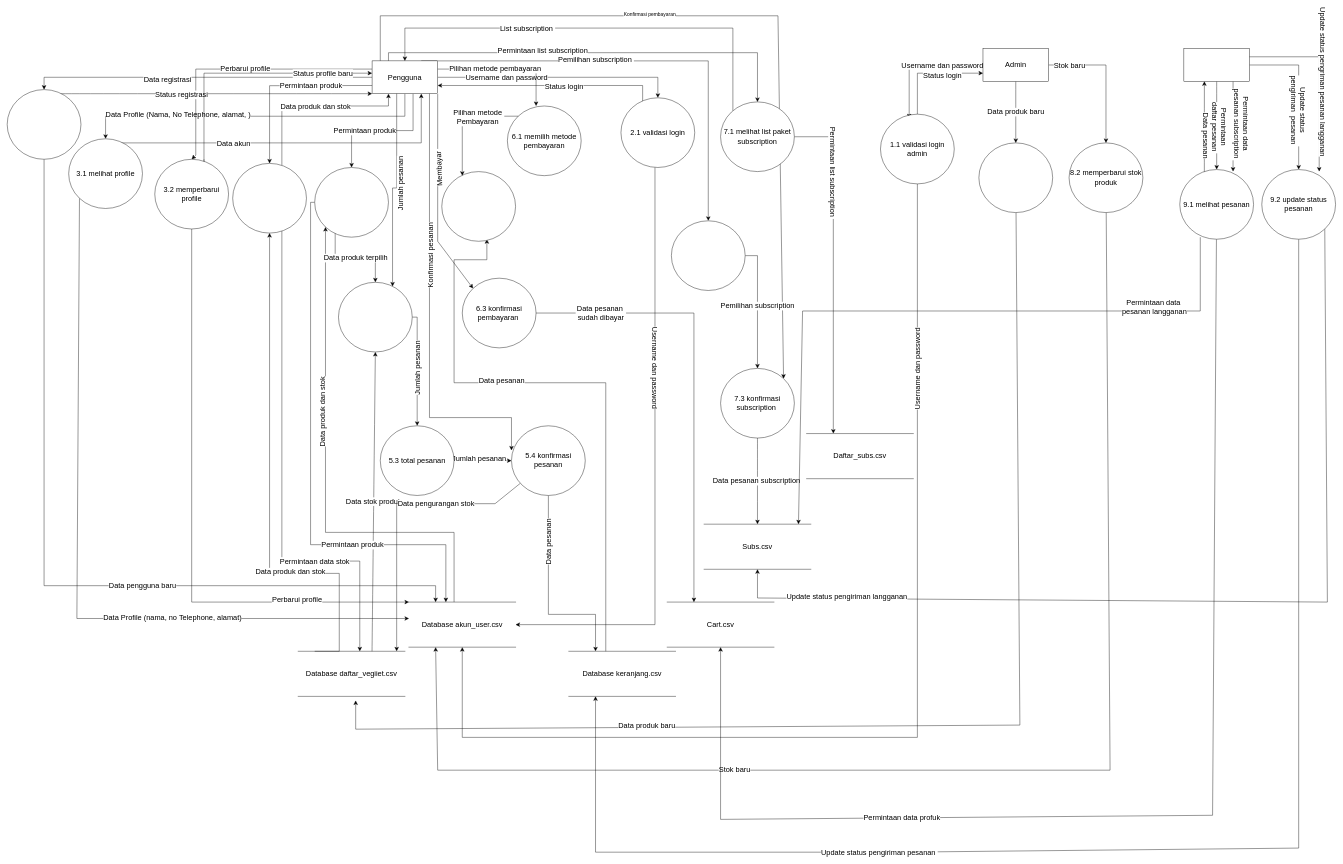
Some shapes in this 1343 by 864 pixel diagram are drawn without their labels. The shapes that lost their labels are listed below. From the top down, each one's box as (x1, y1, x2, y2) in pixels, then its label:
(1183, 48, 1249, 81): Kurir
(7, 89, 81, 159): 1.1 Validasi data akun
(978, 142, 1053, 213): 8.1 menambah data produk
(232, 163, 306, 233): 4.1 Mencari Produk
(314, 167, 388, 237): 5.1 membeli produk
(441, 171, 516, 241): 6.2 proses pembayaran
(671, 220, 745, 290): 7.2 memilih paket subscription
(338, 282, 412, 352): 5.2 Menentukan jumlah pesanan
